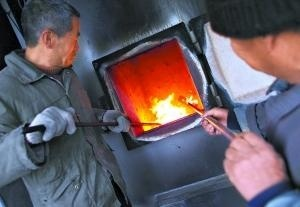fire: (130, 89, 199, 125)
